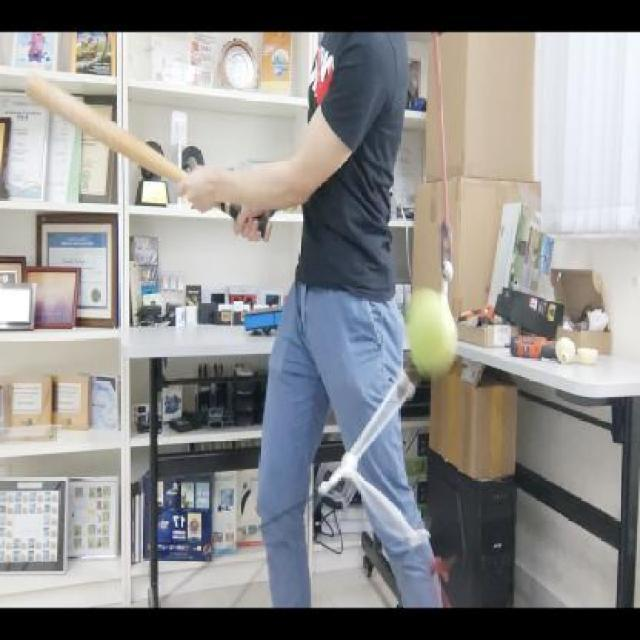bat: (25, 73, 186, 185)
